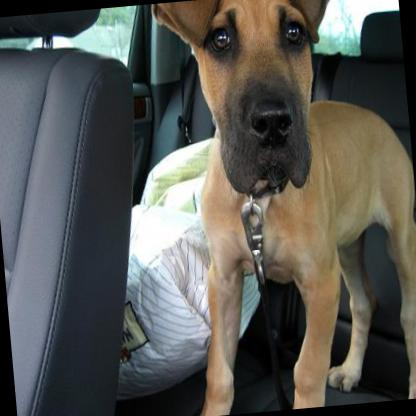Great_Dane: (149, 0, 416, 416)
